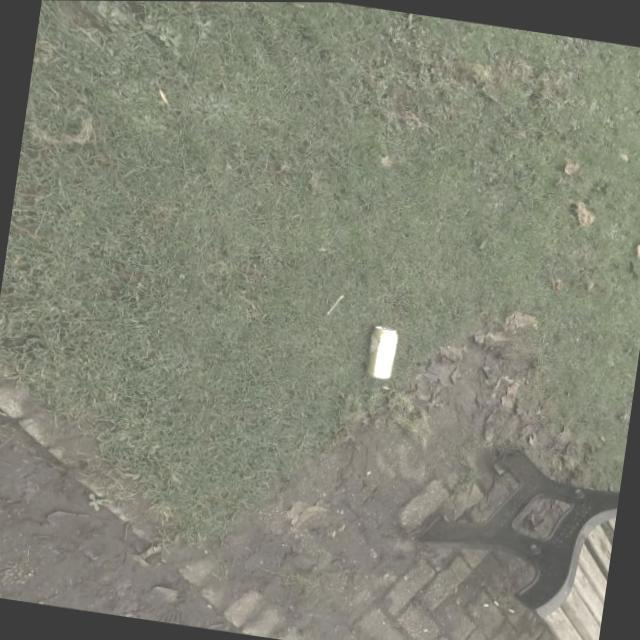Can-Metal: (364, 323, 400, 381)
